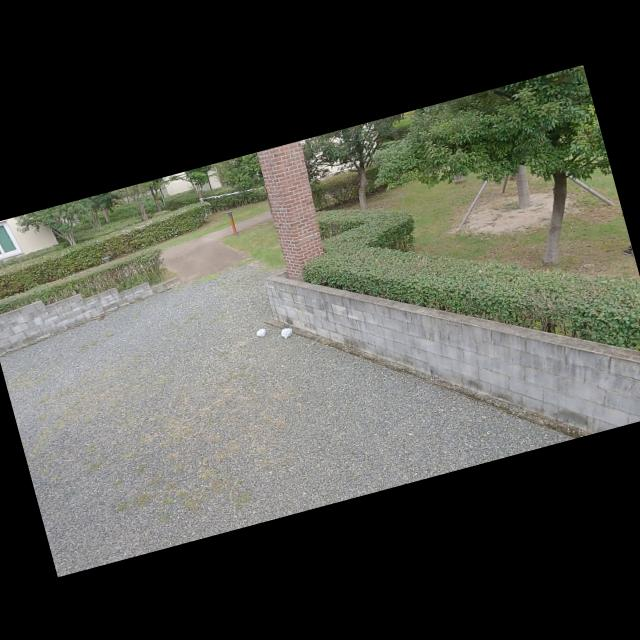trash: (272, 320, 298, 342), (250, 319, 272, 342)
